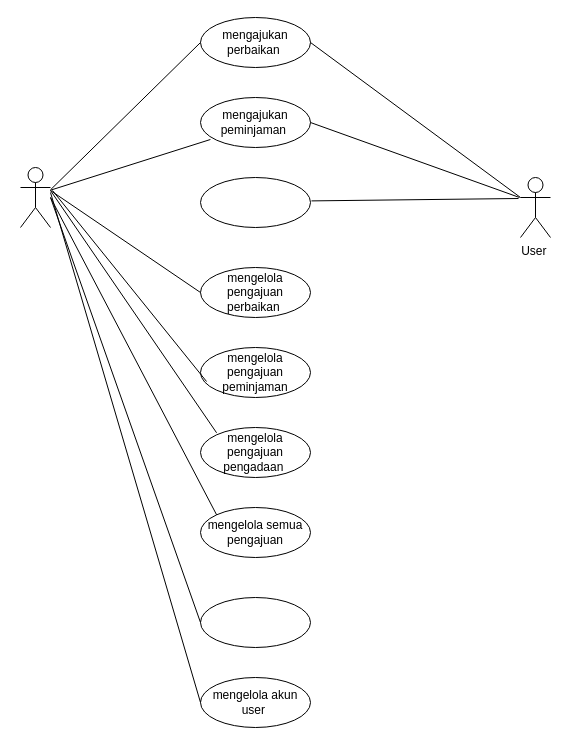
Some shapes in this 568 by 745 pixel diagram are drawn without their labels. The centre of each missing label's shape, as x and y in pixels:
Admin: point (35, 197)
melihat status pengajuan: point (255, 202)
mengelola data barang: point (255, 622)
